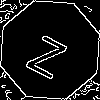Z: (25, 25, 73, 80)
